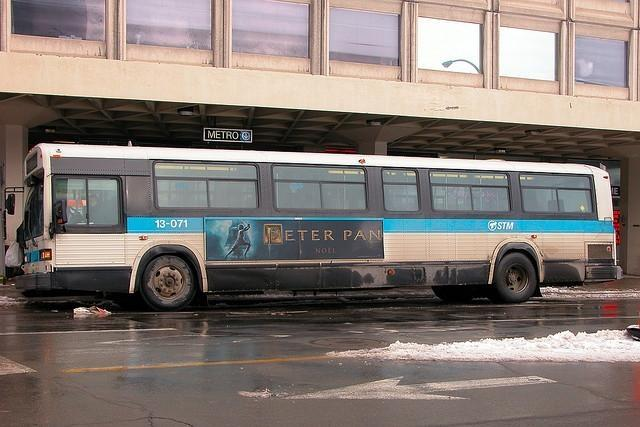bus: (19, 141, 617, 308)
